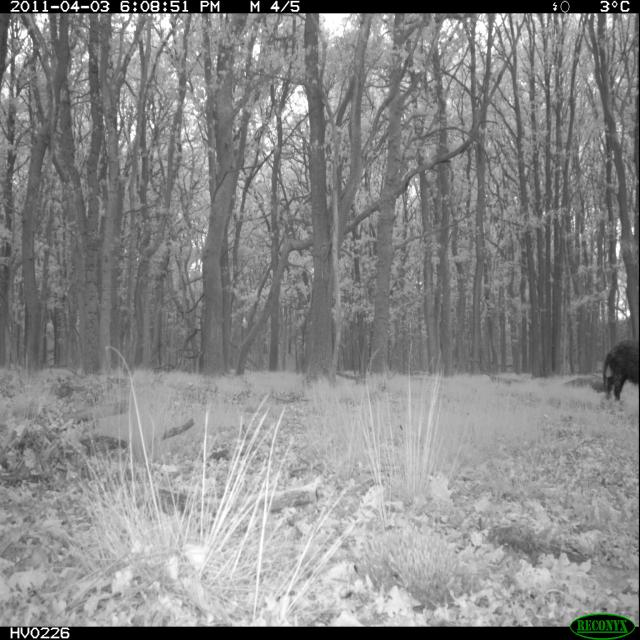boar: (588, 275, 640, 414)
